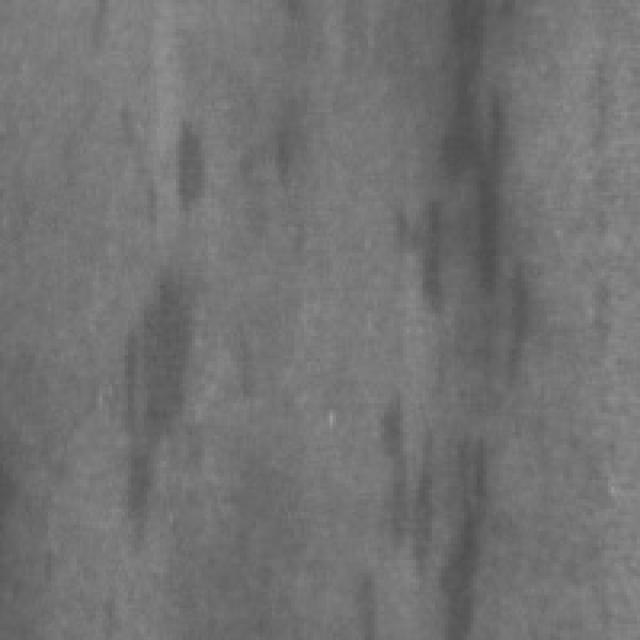inclusion: (368, 16, 515, 634), (99, 243, 205, 576), (154, 100, 220, 230)
